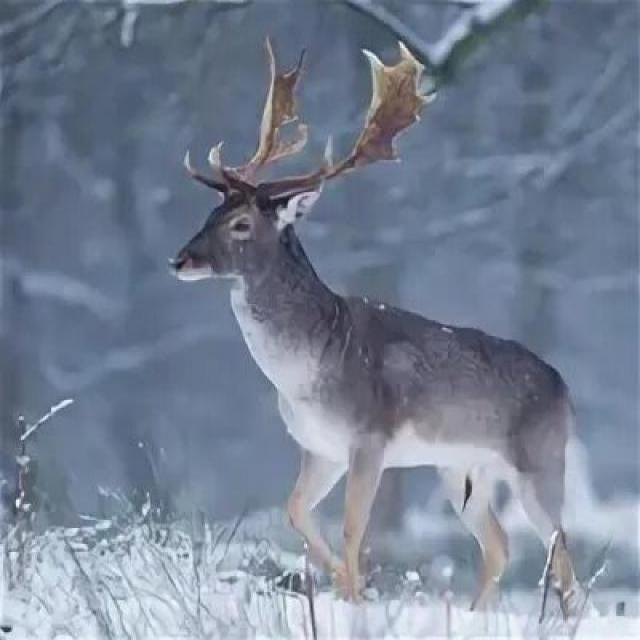deer: (168, 121, 640, 640)
